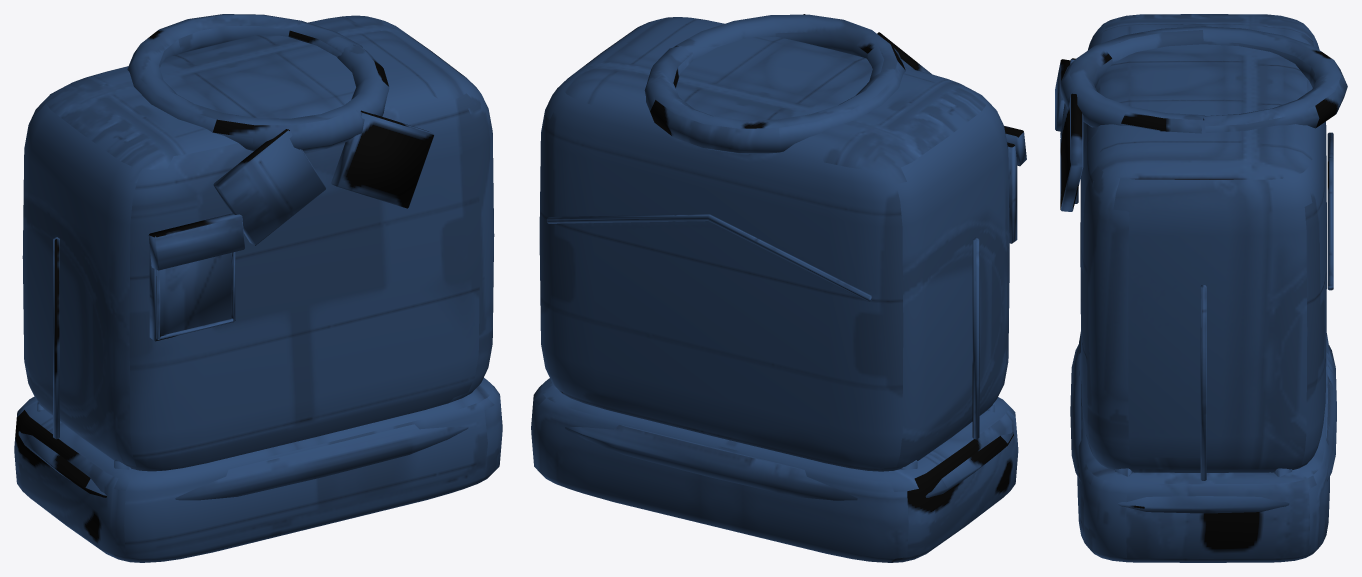
File: Tano_Mameluco.fbx
3 views of the same model, side by side, from view 1: azimuth 30°, elevation 25°; view 2: azimuth 150°, elevation 25°; view 3: azimuth 270°, elevation 25° (orthographic). The views are drawn at different scales.
Parts seen in each view (by area): view 1: Tano_Mameluco; view 2: Tano_Mameluco; view 3: Tano_Mameluco.
Boxes of the visible parts, x1,y1,x2,y2 form: Tano_Mameluco: (14,14,502,562); Tano_Mameluco: (531,14,1026,562); Tano_Mameluco: (1055,14,1347,562).
Bounding box in the file's own units: 2.34 × 2.29 × 1.49.
